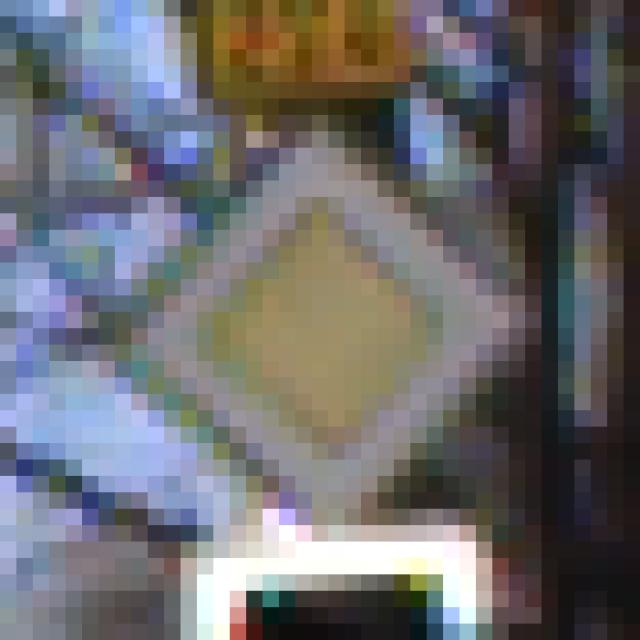Main Road: (83, 83, 559, 559)
